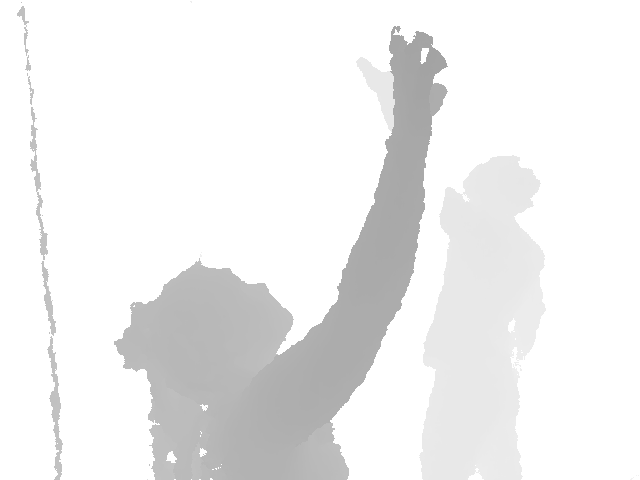hand: (387, 24, 448, 134), (355, 55, 391, 113)
head: (149, 260, 293, 404), (462, 152, 543, 220)
person: (114, 24, 447, 480), (354, 55, 547, 479)
